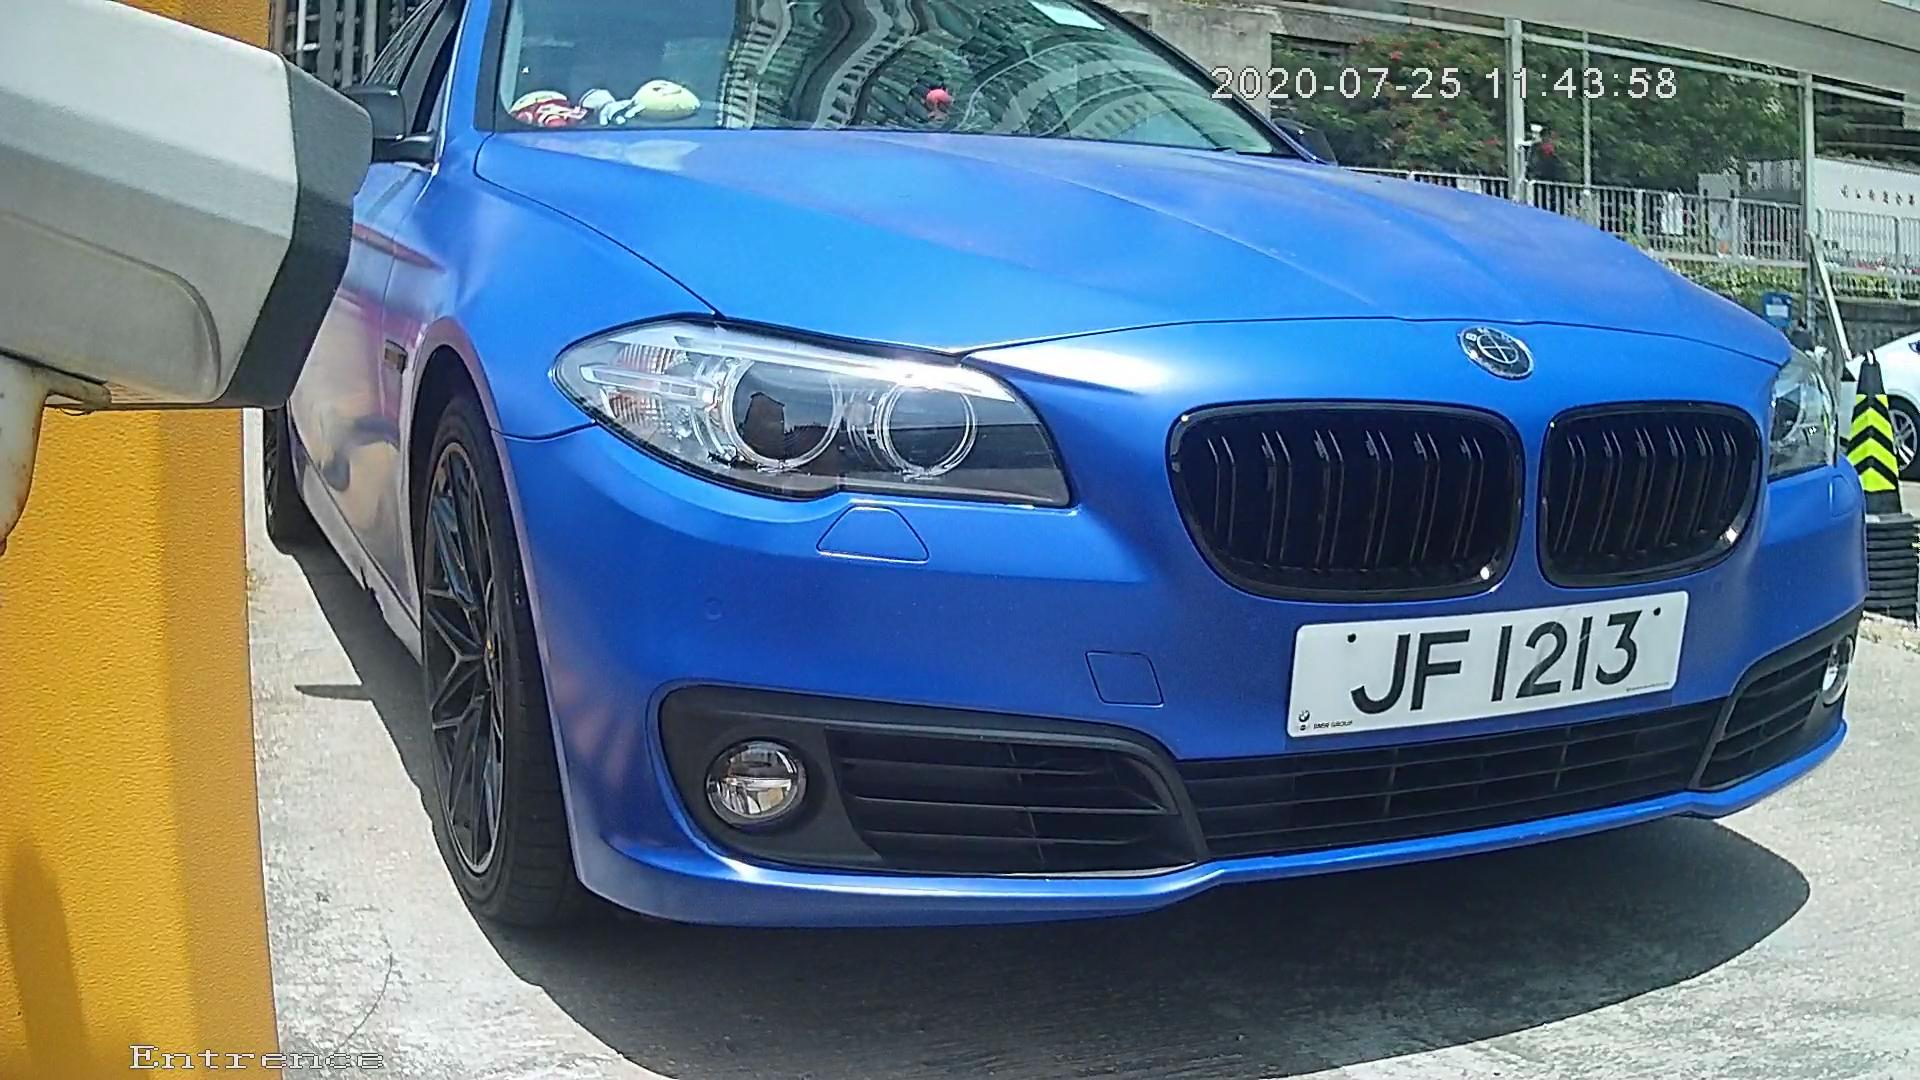Car: (266, 1, 1920, 999)
License Plate: (1278, 584, 1698, 748)
